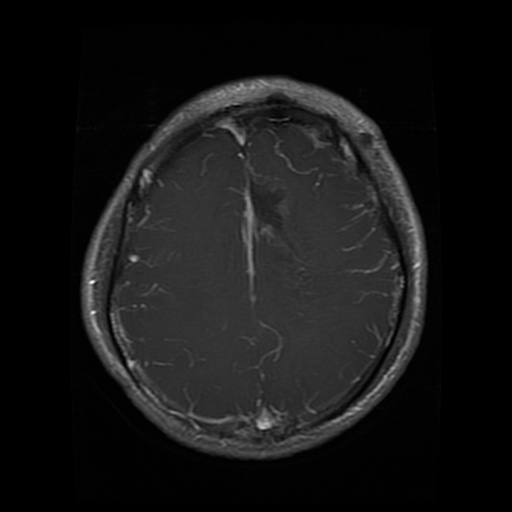glioma: (220, 176, 293, 238)
